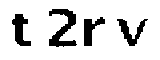2: (45, 6, 78, 50)
r: (79, 13, 110, 48)
t: (8, 10, 36, 49)
v: (116, 14, 148, 47)
